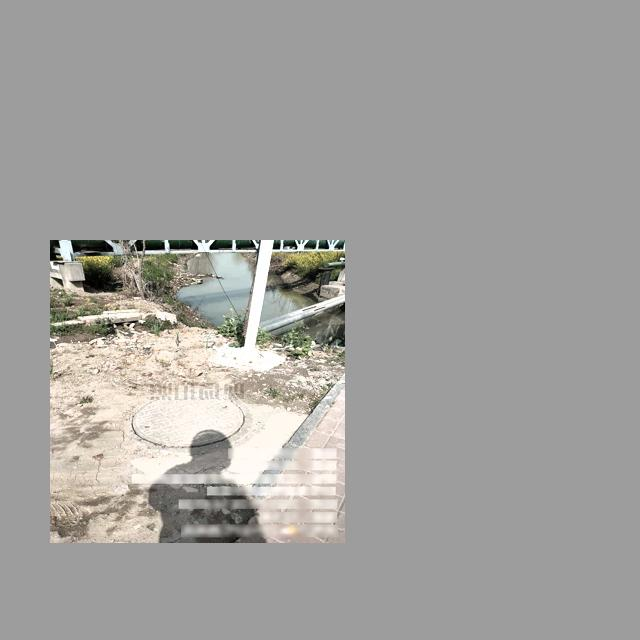good: (127, 392, 252, 453)
